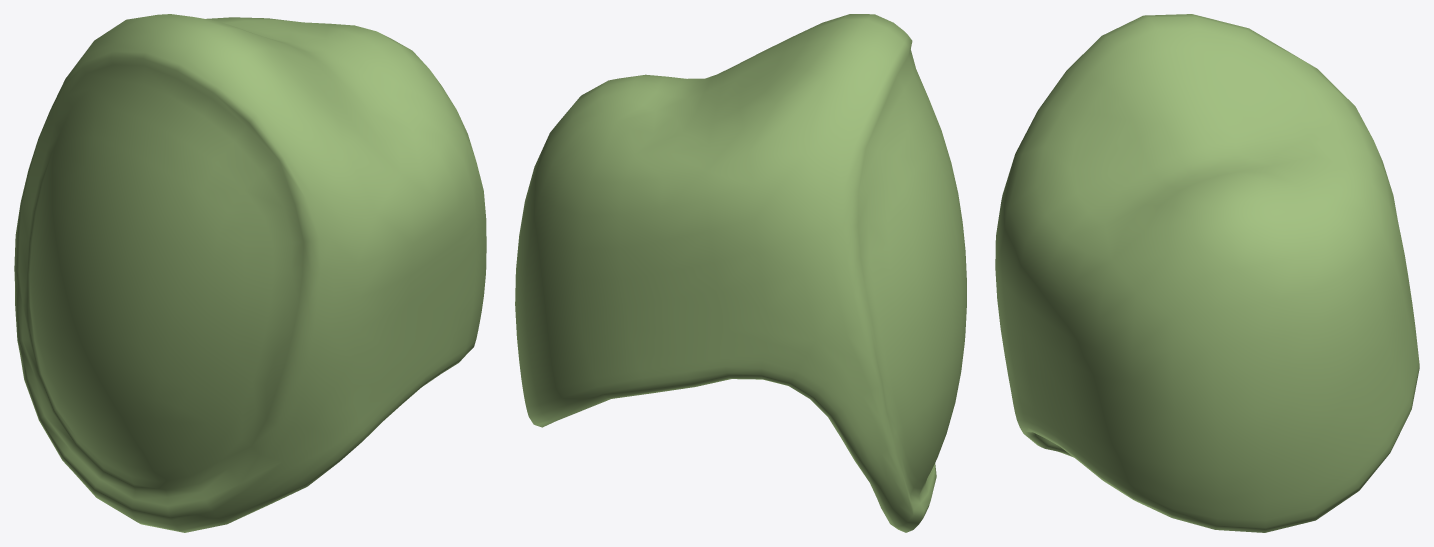
File: BL5_Enamel_Prongs.001.glb
3 renders of one model, left to right at view 1: azimuth 30°, elevation 25°; view 2: azimuth 150°, elevation 25°; view 3: azimuth 270°, elevation 25°, orthographic. The views are drawn at different scales.
Visible parts, largest first — view 1: BL5_Enamel_Prongs.001; view 2: BL5_Enamel_Prongs.001; view 3: BL5_Enamel_Prongs.001.
Boxes of the visible parts, box(x1,y1,x2,y2) form: BL5_Enamel_Prongs.001: box(14, 14, 486, 532); BL5_Enamel_Prongs.001: box(515, 14, 966, 532); BL5_Enamel_Prongs.001: box(995, 14, 1419, 532).
Bounding box in the file's own units: 0.7976 × 0.9146 × 0.7513.
